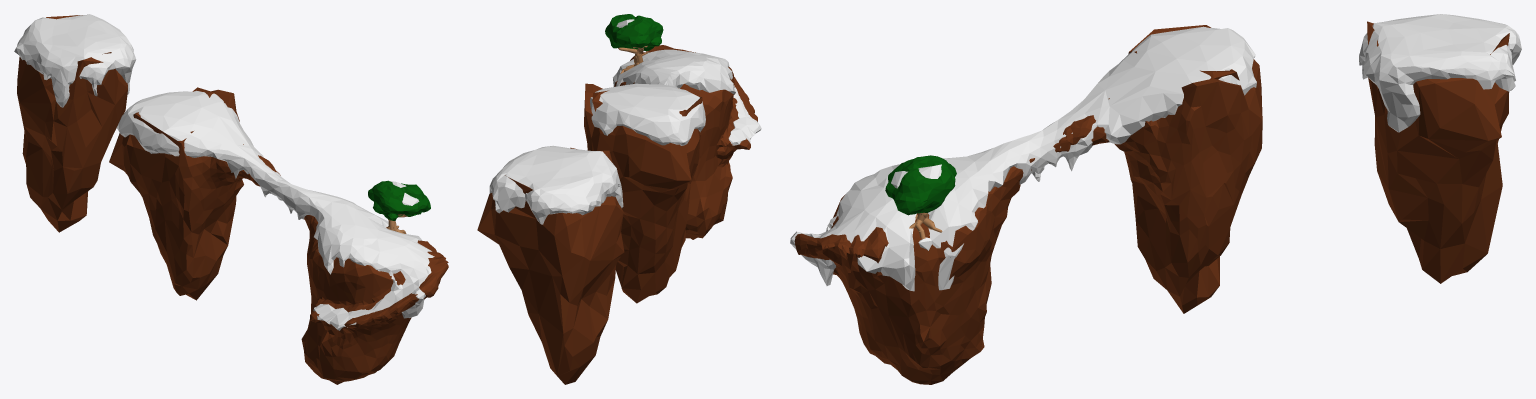
Rendered from Tre_Isola5.fbx.
The picture shows the model from 3 angles, left to right: view 1: azimuth 30°, elevation 25°; view 2: azimuth 150°, elevation 25°; view 3: azimuth 270°, elevation 25°; orthographic projection. The views are drawn at different scales.
Parts seen in each view (by area): view 1: Plane.028, Plane.026, Plane.002, Plane.001, Mball.000; view 2: Plane.028, Plane.002, Plane.026, Plane.001, Mball.000, NurbsPath.000; view 3: Plane.028, Plane.026, Plane.002, Plane.001, Mball.000.
Part boxes in pixels (x1,y1,x2,y2): Plane.028: [109, 87, 448, 384]; Plane.026: [117, 90, 434, 330]; Plane.002: [17, 15, 127, 232]; Plane.001: [14, 14, 136, 107]; Mball.000: [368, 180, 430, 220]; Plane.028: [584, 45, 757, 303]; Plane.002: [477, 147, 624, 384]; Plane.026: [590, 49, 761, 145]; Plane.001: [489, 145, 623, 224]; Mball.000: [605, 14, 663, 50]; NurbsPath.000: [618, 45, 648, 73]; Plane.028: [794, 25, 1262, 384]; Plane.026: [790, 26, 1256, 291]; Plane.002: [1367, 21, 1509, 283]; Plane.001: [1359, 14, 1521, 132]; Mball.000: [885, 155, 956, 215].
Size of the model in its own units: 106 by 116 by 255.
